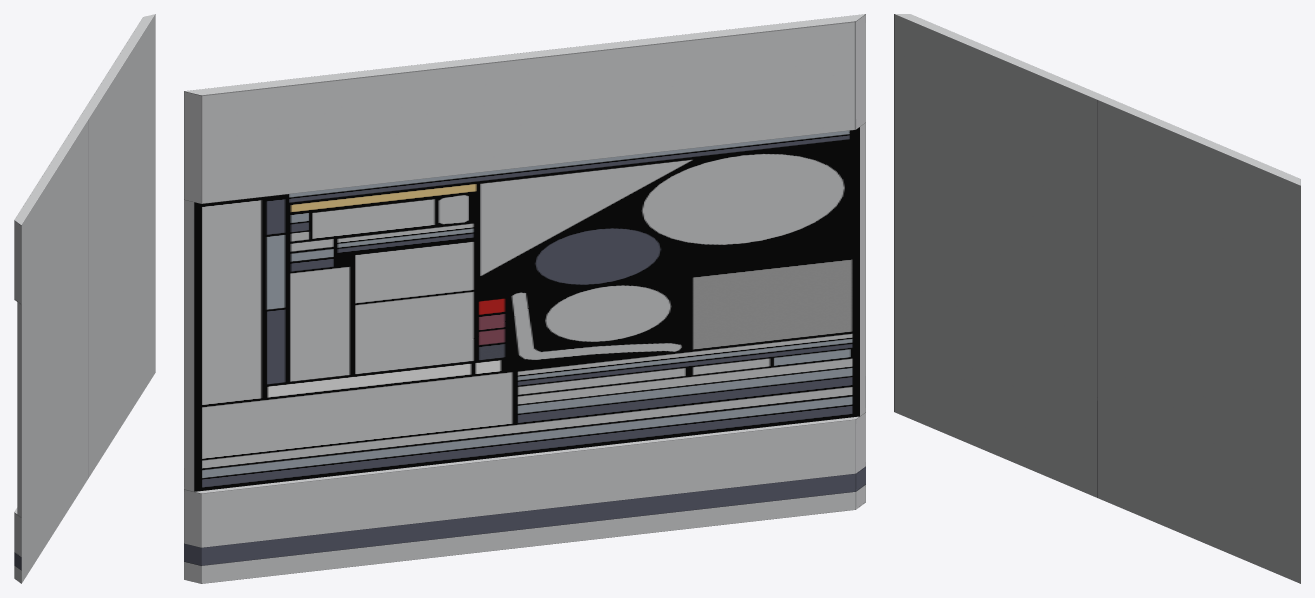
Rendered from Wall_Angle_02.FBX.
3 views of the same model, side by side, from view 1: azimuth 30°, elevation 25°; view 2: azimuth 150°, elevation 25°; view 3: azimuth 270°, elevation 25° (orthographic). The views are drawn at different scales.
Parts seen in each view (by area): view 1: Wall_Angle_02; view 2: Screen, Wall_Angle_02; view 3: Wall_Angle_02.
Part boxes in pixels (x1,y1,x2,y2): Wall_Angle_02: [14, 14, 155, 583]; Screen: [194, 127, 859, 491]; Wall_Angle_02: [184, 14, 865, 583]; Wall_Angle_02: [894, 14, 1300, 583].
Bounding box in the file's own units: 6.25 × 6.75 × 6.25.
1 material, 1 textured.
